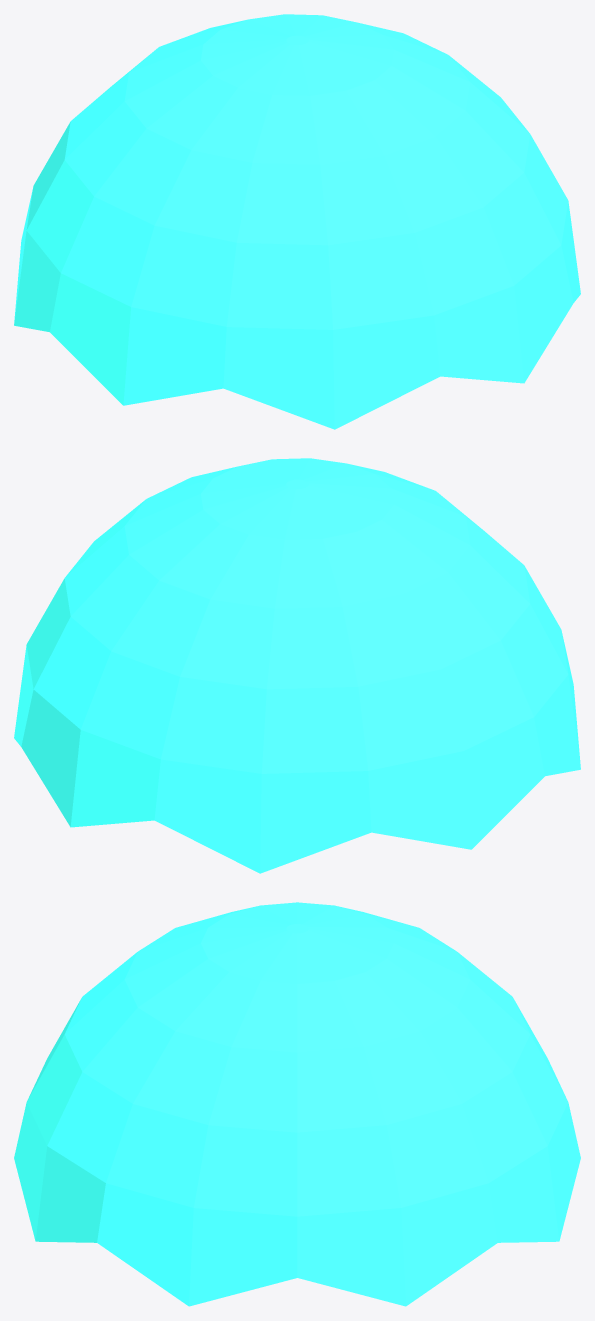
File: SM_JellyInner.fbx
The picture shows the model from 3 angles, top to bottom: view 1: azimuth 30°, elevation 25°; view 2: azimuth 150°, elevation 25°; view 3: azimuth 270°, elevation 25°; orthographic projection.
Visible parts, largest first — view 1: SM_JellyInner; view 2: SM_JellyInner; view 3: SM_JellyInner.
Part boxes in pixels (bbox=[...]): SM_JellyInner: bbox=[14, 14, 580, 429]; SM_JellyInner: bbox=[14, 458, 580, 873]; SM_JellyInner: bbox=[14, 902, 580, 1306].
Bounding box in the file's own units: 49 × 49 × 25.48.
